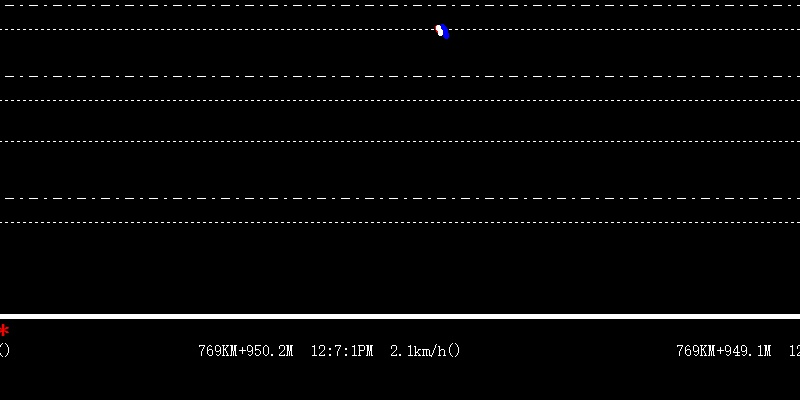face_s: (434, 19, 450, 39)
